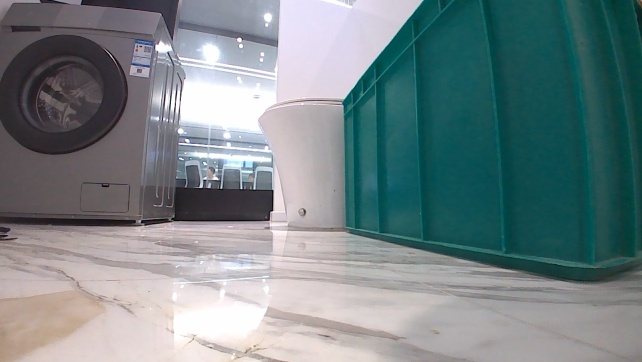toilet: (255, 93, 349, 232)
washing_machine: (0, 0, 187, 226)
